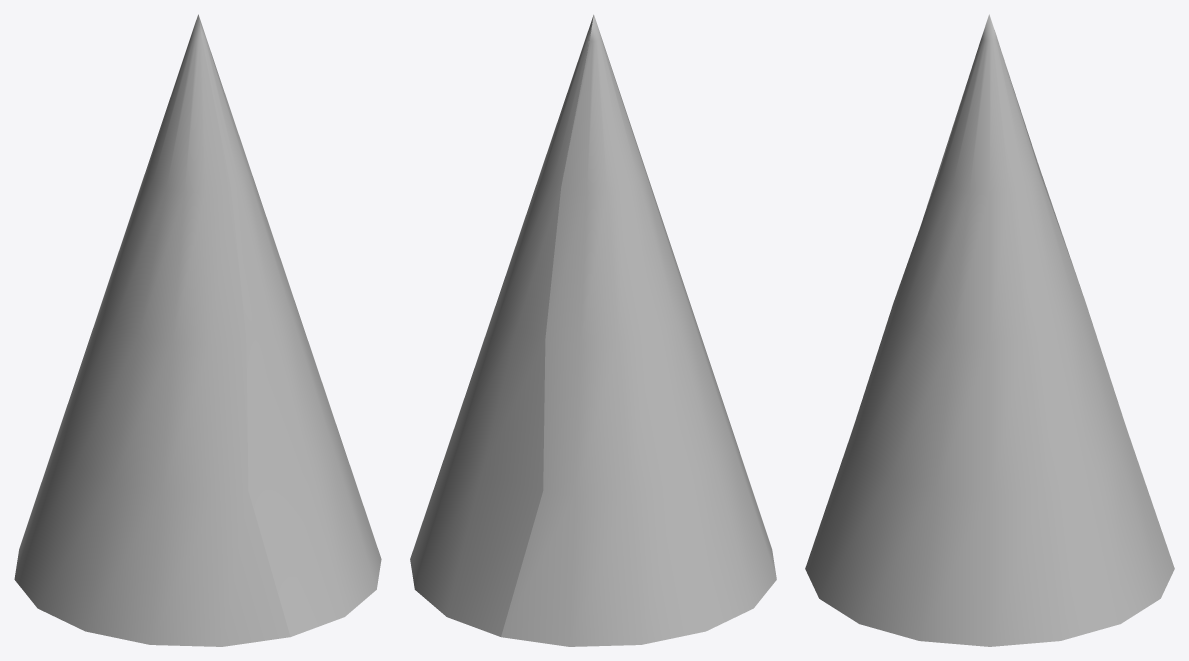
Rendered from jianci_posun.FBX.
The picture shows the model from 3 angles, left to right: view 1: azimuth 30°, elevation 25°; view 2: azimuth 150°, elevation 25°; view 3: azimuth 270°, elevation 25°; orthographic projection.
Parts seen in each view (by area): view 1: jianci_posun_01, jianci_posun_02; view 2: jianci_posun_01, jianci_posun_02; view 3: jianci_posun_02, jianci_posun_01.
Boxes of the visible parts, x1=… form: jianci_posun_01: x1=14, y1=15, x2=290, y2=646; jianci_posun_02: x1=198, y1=14, x2=381, y2=636; jianci_posun_01: x1=501, y1=14, x2=776, y2=646; jianci_posun_02: x1=410, y1=15, x2=593, y2=636; jianci_posun_02: x1=805, y1=14, x2=1174, y2=646; jianci_posun_01: x1=922, y1=52, x2=1081, y2=290.
Bounding box in the file's own units: 17.7 × 29.3 × 17.7.
